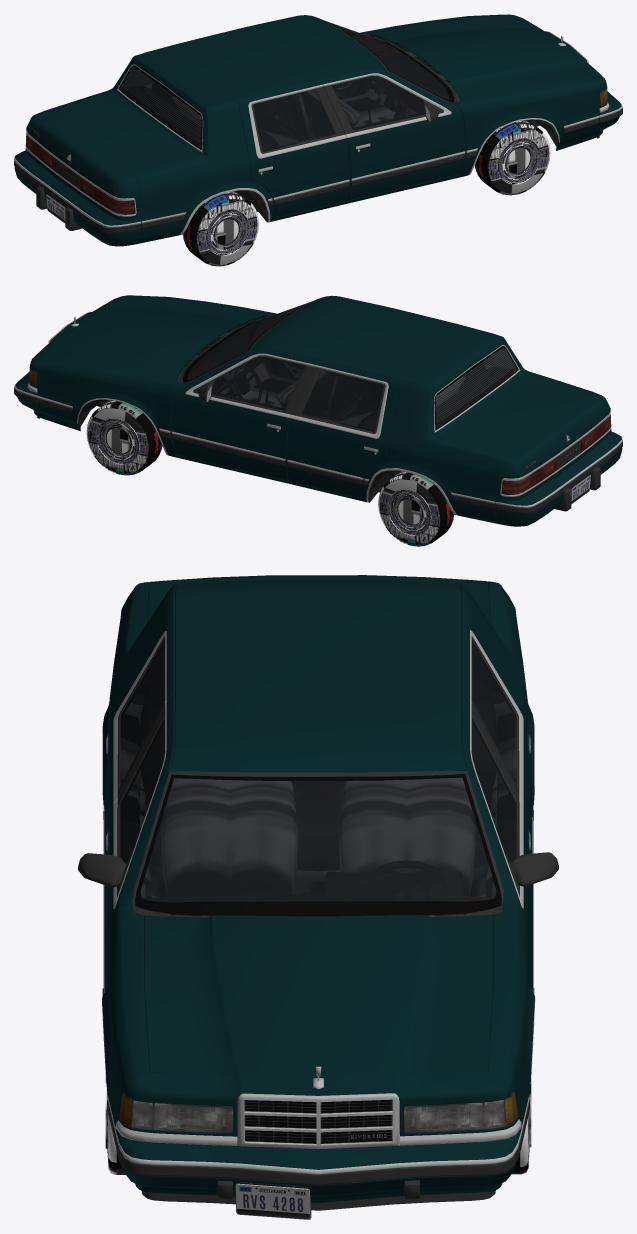
Rendered from riverside.gltf.
3 views of the same model, one above another, from view 1: azimuth 30°, elevation 25°; view 2: azimuth 150°, elevation 25°; view 3: azimuth 270°, elevation 25° (orthographic). The views are drawn at different scales.
Visible parts, largest first — view 1: Riverside88_Body_Riverside88_Bodymat_0, Riverside88_Interior_UCB_Interiors_2_0, Riverside88_bottom_UCB_BOTTOM_0, Riverside88_Hood_Riverside88_Bodymat_0, Riverside88_Trunk_door_Riverside88_Bodymat_0, Riverside88_WheelStock_FR_RB1c_Tire_1k_0, Riverside88_WheelStock_RR_RB1c_Tire_1k_0, Riverside88_Body_Glass_UCB_Lights_and_Glass_Transperent_0, Riverside88_Glass_Passenger_UCB_Lights_and_Glass_Transperent, Riverside88_Rear_window_UCB_Lights_and_Glass_Transperent_0, Riverside88_Bumper_rear_Riverside88_Bodymat_0, Riverside88_Windshield_UCB_Lights_and_Glass_Transperent_0 (+3 smaller); view 2: Riverside88_Body_Riverside88_Bodymat_0, Riverside88_Interior_UCB_Interiors_2_0, Riverside88_bottom_UCB_BOTTOM_0, Riverside88_Hood_Riverside88_Bodymat_0, Riverside88_Trunk_door_Riverside88_Bodymat_0, Riverside88_WheelStock_FL_RB1c_Tire_1k_0, Riverside88_WheelStock_FR_RB1c_Tire_1k_0, Riverside88_Body_Glass_UCB_Lights_and_Glass_Transperent_0, Riverside88_Glass_Driver_UCB_Lights_and_Glass_Transperent_0, Riverside88_Rear_window_UCB_Lights_and_Glass_Transperent_0, Riverside88_Bumper_rear_Riverside88_Bodymat_0, Riverside88_Windshield_UCB_Lights_and_Glass_Transperent_0 (+3 smaller); view 3: Riverside88_Body_Riverside88_Bodymat_0, Riverside88_Hood_Riverside88_Bodymat_0, Riverside88_Interior_UCB_Interiors_2_0, Riverside88_Windshield_UCB_Lights_and_Glass_Transperent_0, Riverside88_bottom_UCB_BOTTOM_0, Riverside88_Bumper_Front_Riverside88_Bodymat_0, Riverside88_Bumper_Front_inner_UCB_BOTTOM_0, Riverside88_Headlights_Glass_UCB_Lights_and_Glass_Transperen, Riverside88_Body_Glass_UCB_Lights_and_Glass_Transperent_0, Riverside88_Headlights_UCB_Lights_and_Glass_0, Riverside88_Trunk_door_Riverside88_Bodymat_0, Riverside88_Glass_Driver_UCB_Lights_and_Glass_Transperent_0 (+2 smaller).
Boxes of the visible parts, <box> form: Riverside88_Body_Riverside88_Bodymat_0: <box>25,14,607,243</box>; Riverside88_Interior_UCB_Interiors_2_0: <box>120,26,448,151</box>; Riverside88_bottom_UCB_BOTTOM_0: <box>25,17,609,235</box>; Riverside88_Hood_Riverside88_Bodymat_0: <box>373,16,592,98</box>; Riverside88_Trunk_door_Riverside88_Bodymat_0: <box>28,90,201,195</box>; Riverside88_WheelStock_FR_RB1c_Tire_1k_0: <box>475,120,550,195</box>; Riverside88_WheelStock_RR_RB1c_Tire_1k_0: <box>183,191,258,266</box>; Riverside88_Body_Glass_UCB_Lights_and_Glass_Transperent_0: <box>253,90,335,151</box>; Riverside88_Glass_Passenger_UCB_Lights_and_Glass_Transperent: <box>332,76,425,130</box>; Riverside88_Rear_window_UCB_Lights_and_Glass_Transperent_0: <box>120,67,201,148</box>; Riverside88_Bumper_rear_Riverside88_Bodymat_0: <box>14,150,141,246</box>; Riverside88_Windshield_UCB_Lights_and_Glass_Transperent_0: <box>326,21,449,99</box>; Riverside88_Body_Riverside88_Bodymat_0: <box>29,295,611,523</box>; Riverside88_Interior_UCB_Interiors_2_0: <box>188,307,516,431</box>; Riverside88_bottom_UCB_BOTTOM_0: <box>27,297,611,515</box>; Riverside88_Hood_Riverside88_Bodymat_0: <box>45,297,263,379</box>; Riverside88_Trunk_door_Riverside88_Bodymat_0: <box>435,371,608,475</box>; Riverside88_WheelStock_FL_RB1c_Tire_1k_0: <box>86,400,162,475</box>; Riverside88_WheelStock_FR_RB1c_Tire_1k_0: <box>378,471,453,546</box>; Riverside88_Body_Glass_UCB_Lights_and_Glass_Transperent_0: <box>301,370,383,432</box>; Riverside88_Glass_Driver_UCB_Lights_and_Glass_Transperent_0: <box>211,357,305,410</box>; Riverside88_Rear_window_UCB_Lights_and_Glass_Transperent_0: <box>435,348,517,428</box>; Riverside88_Bumper_rear_Riverside88_Bodymat_0: <box>495,431,622,526</box>; Riverside88_Windshield_UCB_Lights_and_Glass_Transperent_0: <box>187,301,312,379</box>; Riverside88_Body_Riverside88_Bodymat_0: <box>102,580,534,1136</box>; Riverside88_Hood_Riverside88_Bodymat_0: <box>144,915,492,1074</box>; Riverside88_Interior_UCB_Interiors_2_0: <box>121,643,515,901</box>; Riverside88_Windshield_UCB_Lights_and_Glass_Transperent_0: <box>140,777,496,902</box>; Riverside88_bottom_UCB_BOTTOM_0: <box>78,630,558,1149</box>; Riverside88_Bumper_Front_Riverside88_Bodymat_0: <box>116,1129,521,1202</box>; Riverside88_Bumper_Front_inner_UCB_BOTTOM_0: <box>115,1131,521,1217</box>; Riverside88_Headlights_Glass_UCB_Lights_and_Glass_Transperen: <box>119,1091,517,1133</box>; Riverside88_Body_Glass_UCB_Lights_and_Glass_Transperent_0: <box>120,641,516,784</box>; Riverside88_Headlights_UCB_Lights_and_Glass_0: <box>132,1100,505,1132</box>; Riverside88_Trunk_door_Riverside88_Bodymat_0: <box>147,575,489,622</box>; Riverside88_Glass_Driver_UCB_Lights_and_Glass_Transperent_0: <box>472,718,516,863</box>.
Size of the model in its own units: 4.91 by 1.32 by 1.91.
8 materials, 7 textured.
